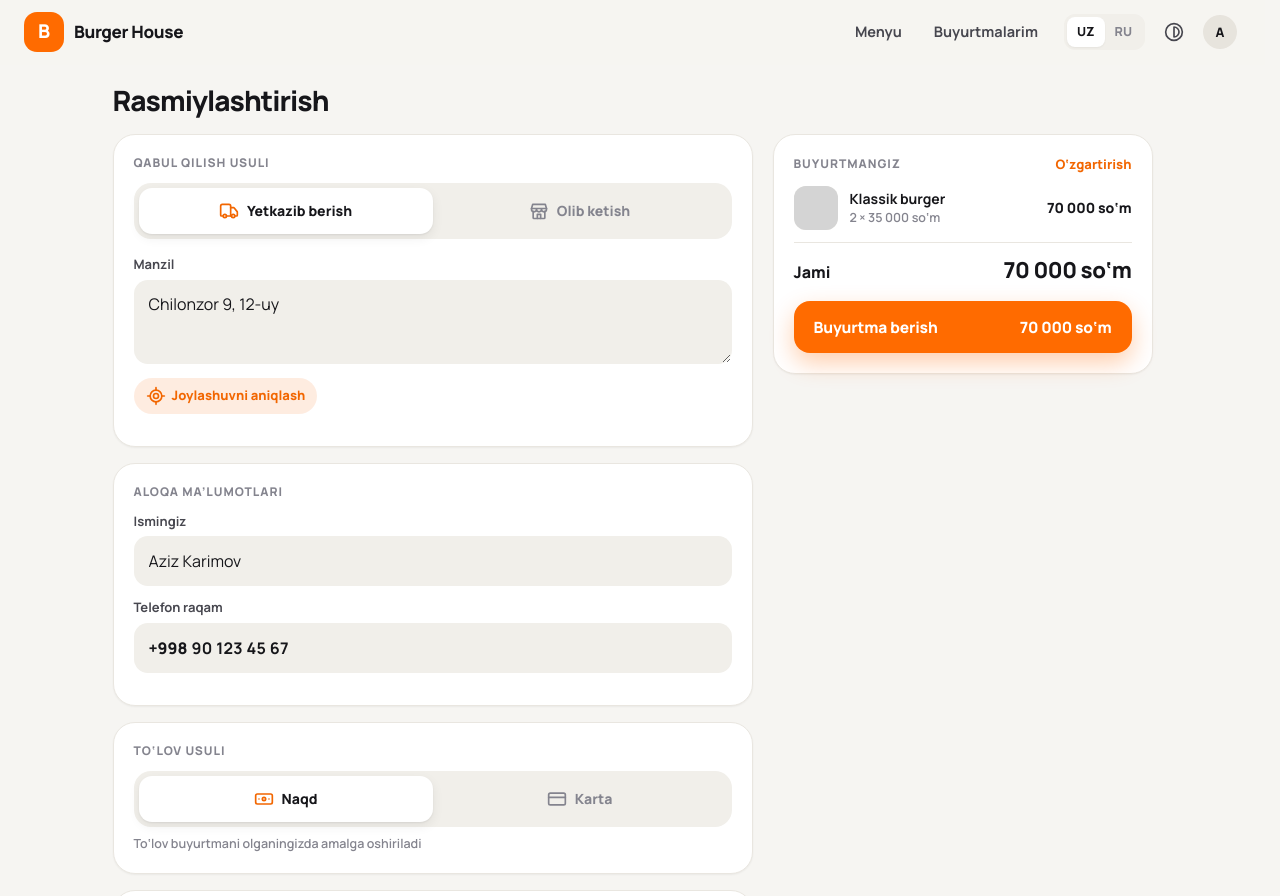
checkout › places the order, clears the cart and opens the order tracker
Expected: the heading "Rasmiylashtirish" is shown, [112,83,328,118]
Expected: the field showing "Aziz Karimov" is shown, [134,536,732,586]
Click the radio button labelled "Karta" at (580,799), box [547,789,612,809]
(page scrolled)
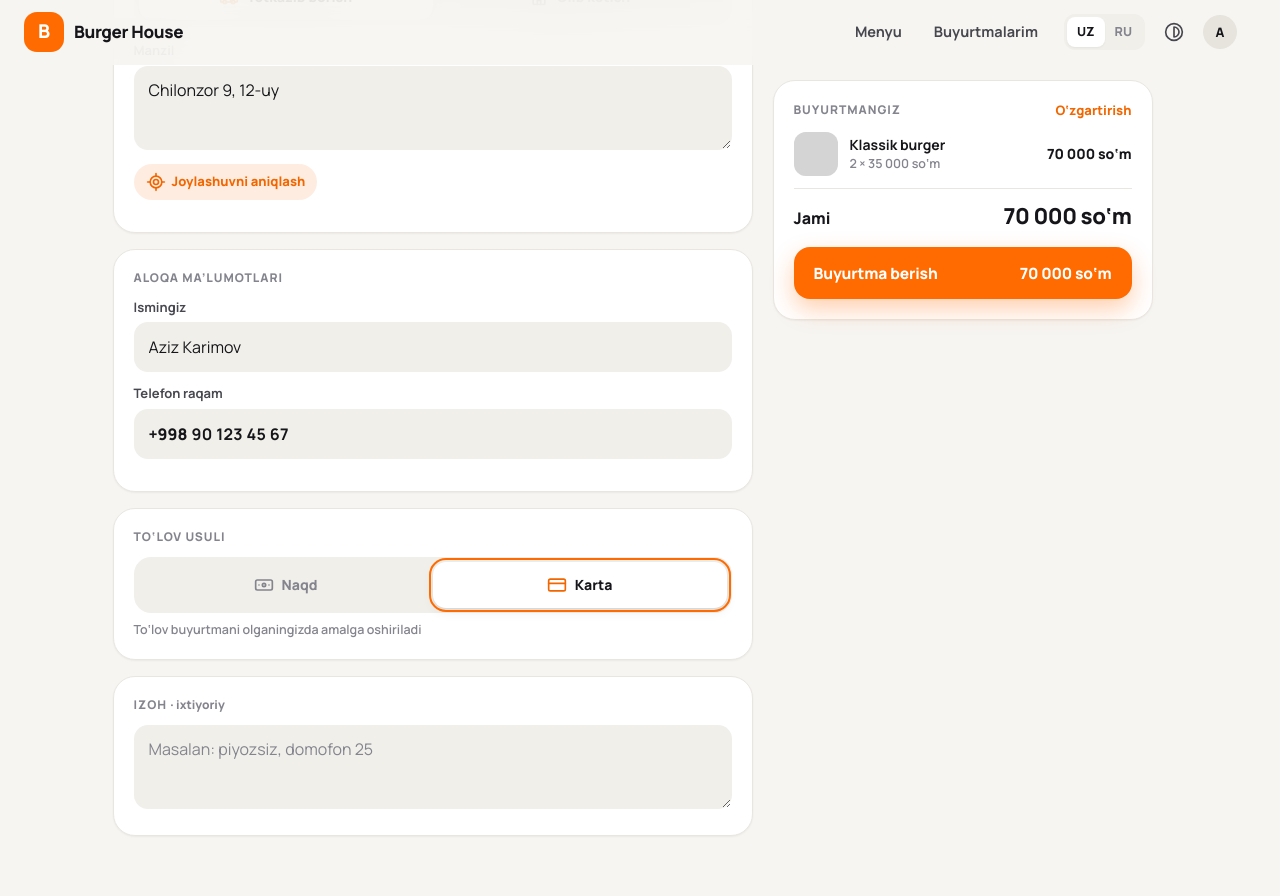
Type "Domofon 25" into the text box labelled "Izoh · ixtiyoriy" at (432,767), box [134,725,732,809]
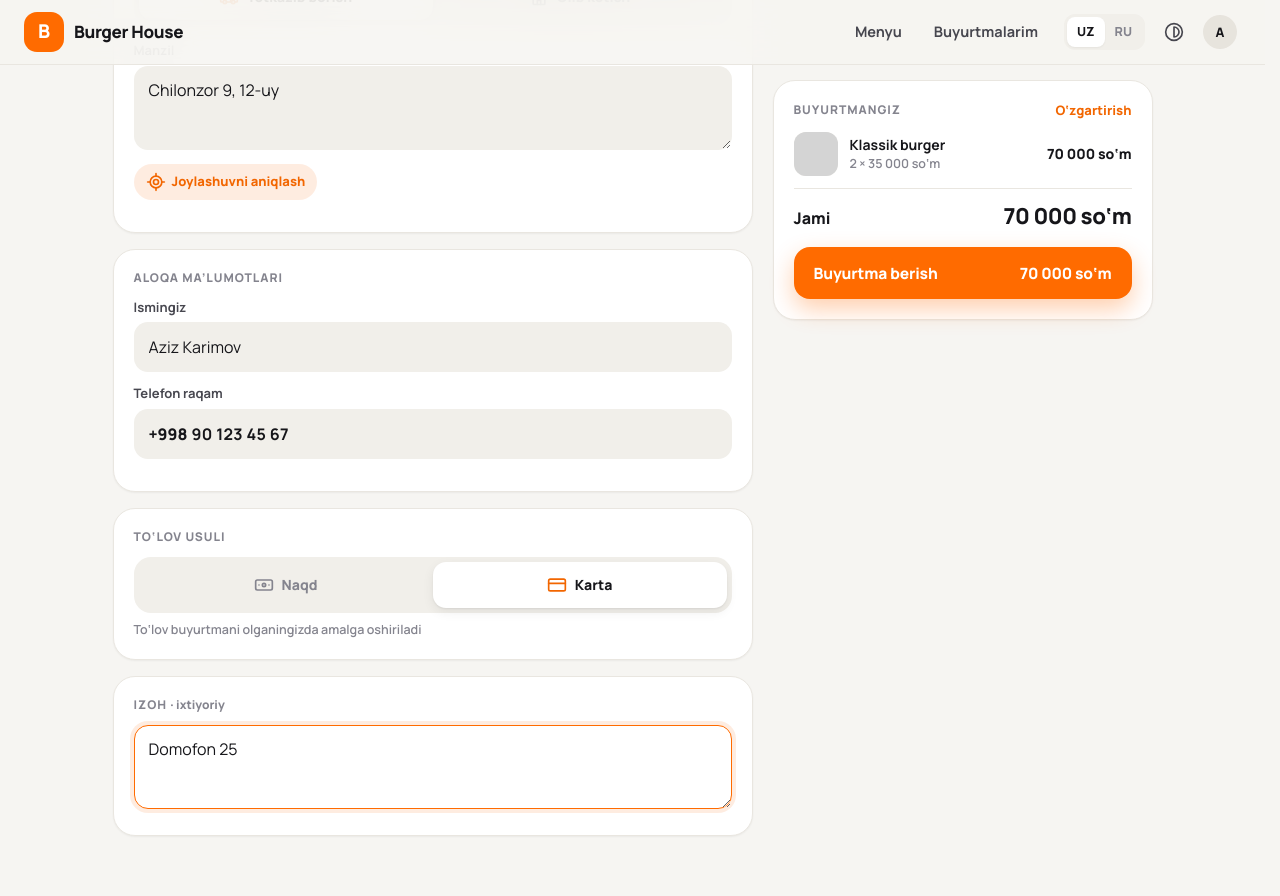
Click the button "Buyurtma berish 70 000 so‘m" at (876,272), box [794,247,1132,299]
(page scrolled)
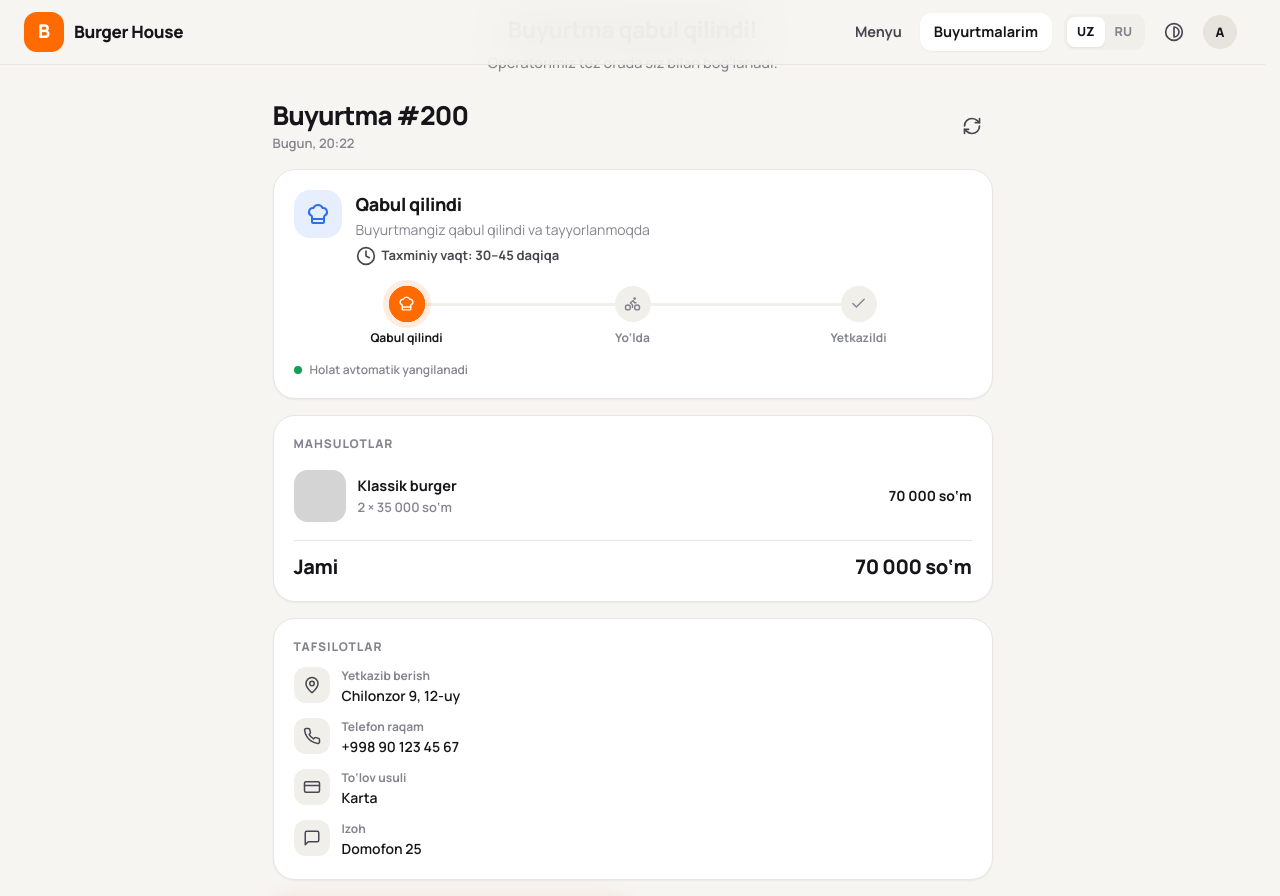
Now the heading "Buyurtma #200" is shown, box [272,99,468,132]
